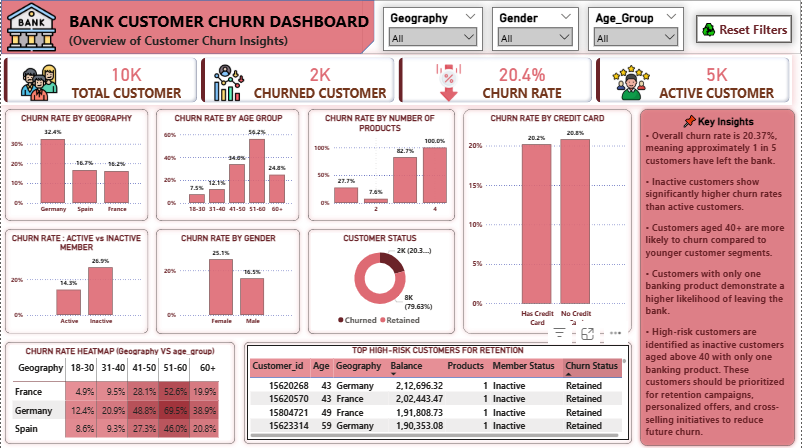

This screenshot's page, from the dashboard's own definition file:
{"tool":"powerbi","page":{"name":"Page 1","canvas":[1600,900],"ordinal":0},"visuals":[{"type":"cardVisual","fields":{"Data":["churn_cleaned.Total Customer","churn_cleaned.Churned Customer","churn_cleaned.Churn Rate","churn_cleaned.Active Customers"]},"box":[0,110,1582.5,100],"z":0},{"type":"shape","box":[0,210,302.5,240],"z":1000},{"type":"clusteredColumnChart","title":"CHURN RATE BY GEOGRAPHY","fields":{"Category":["churn_cleaned.geography"],"Y":["churn_cleaned.Churn Rate"]},"box":[14.3,225.7,274.3,210],"z":2000},{"type":"shape","box":[722.3,0,877.7,108.4],"z":3000},{"type":"shape","box":[0,0,746.8,108.4],"z":4000},{"type":"textbox","box":[124,14,624,55.2],"z":5000},{"type":"image","box":[0,0,122.8,108.4],"z":6000},{"type":"textbox","box":[130,57.3,460.4,51.2],"z":7000},{"type":"slicer","title":"dsada","fields":{"Values":["churn_cleaned.geography"]},"box":[764,14,200,88],"z":8000},{"type":"slicer","title":"dsada","fields":{"Values":["churn_cleaned.gender"]},"box":[982.4,13.3,173,87.9],"z":9000},{"type":"slicer","title":"dsada","fields":{"Values":["churn_cleaned.age_group"]},"box":[1174,13.3,191.7,87.9],"z":10000},{"type":"actionButton","title":"dd","box":[1390,30,192,56],"z":11000},{"type":"shape","box":[1270,210,326,690],"z":12000},{"type":"shape","box":[0,450,302.5,225],"z":13000},{"type":"shape","box":[916,210,354,466],"z":14000},{"type":"shape","box":[478,676,792,220],"z":15000},{"type":"shape","box":[302,450,304,226],"z":16000},{"type":"shape","box":[302.5,210,302.5,240],"z":17000},{"type":"shape","box":[606,210,310,240],"z":18000},{"type":"shape","box":[606,450,310,226],"z":19000},{"type":"shape","box":[0,676,476,220],"z":20000},{"type":"clusteredColumnChart","title":"CHURN RATE  BY AGE GROUP","fields":{"Y":["churn_cleaned.Churn Rate"],"Category":["churn_cleaned.age_group"]},"box":[320,226,270,210],"z":21000},{"type":"clusteredColumnChart","title":"CHURN RATE  BY NUMBER OF PRODUCTS","fields":{"Y":["churn_cleaned.Churn Rate"],"Category":["churn_cleaned.num_of_products"]},"box":[620,226,276,210],"z":22000},{"type":"clusteredColumnChart","title":"CHURN RATE : ACTIVE vs INACTIVE MEMBER","fields":{"Y":["churn_cleaned.Churn Rate"],"Category":["churn_cleaned.Member Status"]},"box":[14,466,274,194],"z":23000},{"type":"clusteredColumnChart","title":"CHURN RATE  BY GENDER","fields":{"Y":["churn_cleaned.Churn Rate"],"Category":["churn_cleaned.gender"]},"box":[320,466,270,194],"z":24000},{"type":"clusteredColumnChart","title":"CHURN RATE  BY CREDIT CARD","fields":{"Y":["churn_cleaned.Churn Rate"],"Category":["churn_cleaned.Credit Card Status"]},"box":[930,226,326,434],"z":25000},{"type":"donutChart","title":"CUSTOMER STATUS","fields":{"Category":["churn_cleaned.churn_status"],"Y":["churn_cleaned.Total Customer"]},"box":[620,466,276,194],"z":26000},{"type":"pivotTable","title":"CHURN RATE HEATMAP (Geography VS age_group)","fields":{"Rows":["churn_cleaned.geography"],"Columns":["churn_cleaned.age_group"],"Values":["churn_cleaned.Churn Rate"]},"box":[18,690,440,190],"z":27000},{"type":"tableEx","title":"TOP HIGH-RISK CUSTOMERS FOR RETENTION","fields":{"Values":["churn_cleaned.customer_id","churn_cleaned.age","churn_cleaned.geography","churn_cleaned.balance","churn_cleaned.num_of_products","churn_cleaned.Member Status","churn_cleaned.Customer Status"]},"box":[492,690,764,190],"z":28000},{"type":"textbox","title":"📌Key Insights ","box":[1284,226,300,654],"z":29000}]}

Visuals, with their boxes in screenshot pixels (x1, y1, x2, y2), scaled from the page's 1600x900 canvas onto the 802x448 screenshot:
cardVisual - churn_cleaned.Total Customer x churn_cleaned.Churned Customer: <bbox>0, 55, 793, 105</bbox>
shape: <bbox>0, 105, 152, 224</bbox>
"CHURN RATE BY GEOGRAPHY" clusteredColumnChart: <bbox>7, 112, 145, 217</bbox>
shape: <bbox>362, 0, 801, 54</bbox>
shape: <bbox>0, 0, 374, 54</bbox>
textbox: <bbox>62, 7, 375, 34</bbox>
image: <bbox>0, 0, 62, 54</bbox>
textbox: <bbox>65, 29, 296, 54</bbox>
"dsada" slicer: <bbox>383, 7, 483, 51</bbox>
"dsada" slicer: <bbox>492, 7, 579, 50</bbox>
"dsada" slicer: <bbox>588, 7, 685, 50</bbox>
"dd" actionButton: <bbox>697, 15, 793, 43</bbox>
shape: <bbox>637, 105, 800, 447</bbox>
shape: <bbox>0, 224, 152, 336</bbox>
shape: <bbox>459, 105, 637, 336</bbox>
shape: <bbox>240, 336, 637, 446</bbox>
shape: <bbox>151, 224, 304, 336</bbox>
shape: <bbox>152, 105, 303, 224</bbox>
shape: <bbox>304, 105, 459, 224</bbox>
shape: <bbox>304, 224, 459, 336</bbox>
shape: <bbox>0, 336, 239, 446</bbox>
"CHURN RATE  BY AGE GROUP" clusteredColumnChart: <bbox>160, 112, 296, 217</bbox>
"CHURN RATE  BY NUMBER OF PRODUCTS" clusteredColumnChart: <bbox>311, 112, 449, 217</bbox>
"CHURN RATE : ACTIVE vs INACTIVE MEMBER" clusteredColumnChart: <bbox>7, 232, 144, 329</bbox>
"CHURN RATE  BY GENDER" clusteredColumnChart: <bbox>160, 232, 296, 329</bbox>
"CHURN RATE  BY CREDIT CARD" clusteredColumnChart: <bbox>466, 112, 630, 329</bbox>
"CUSTOMER STATUS" donutChart: <bbox>311, 232, 449, 329</bbox>
"CHURN RATE HEATMAP (Geography VS age_group)" pivotTable: <bbox>9, 343, 230, 438</bbox>
"TOP HIGH-RISK CUSTOMERS FOR RETENTION" tableEx: <bbox>247, 343, 630, 438</bbox>
"📌Key Insights " textbox: <bbox>644, 112, 794, 438</bbox>
